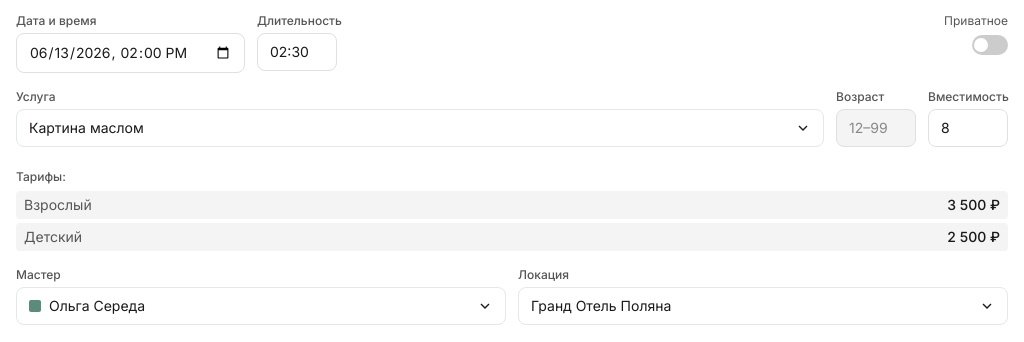
Test: SettingsTab — service/location combobox flow › filters service options via combobox search
Click the button with test id "combobox-trigger" showing "Картина маслом" at (86, 128), box [16,109,824,147]
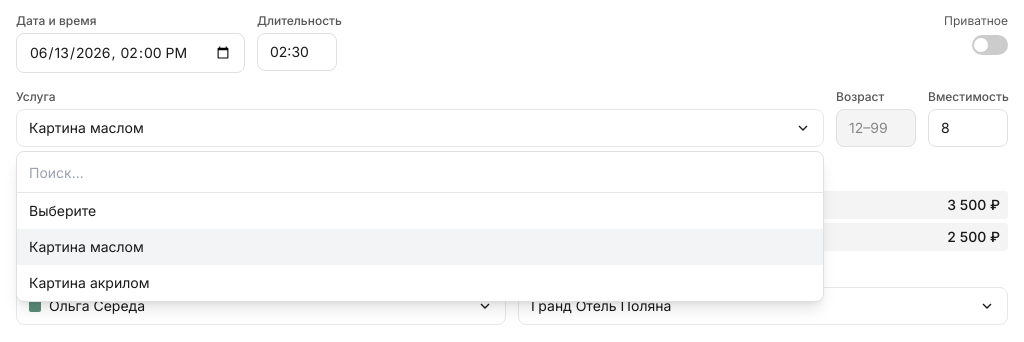
Type "акрилом" into the dropdown with test id "combobox-search" at (420, 173), box [29,163,811,183]
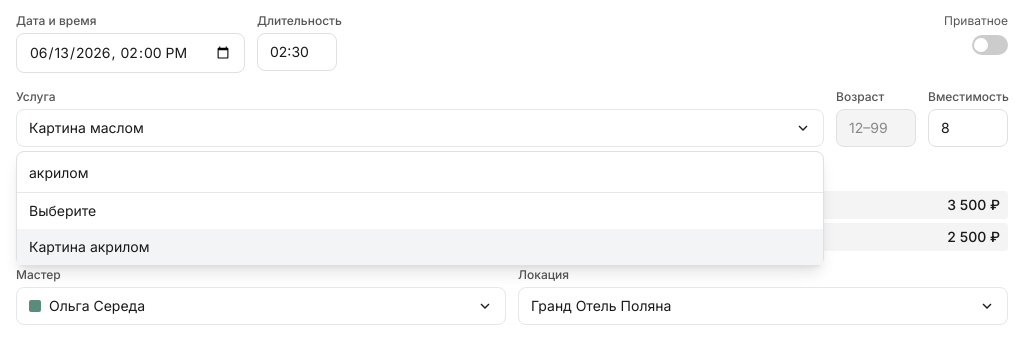
expect the option with test id "combobox-option-s2" is shown: met, box [17,229,823,265]
expect the option with test id "combobox-option-s1" is gone: met
